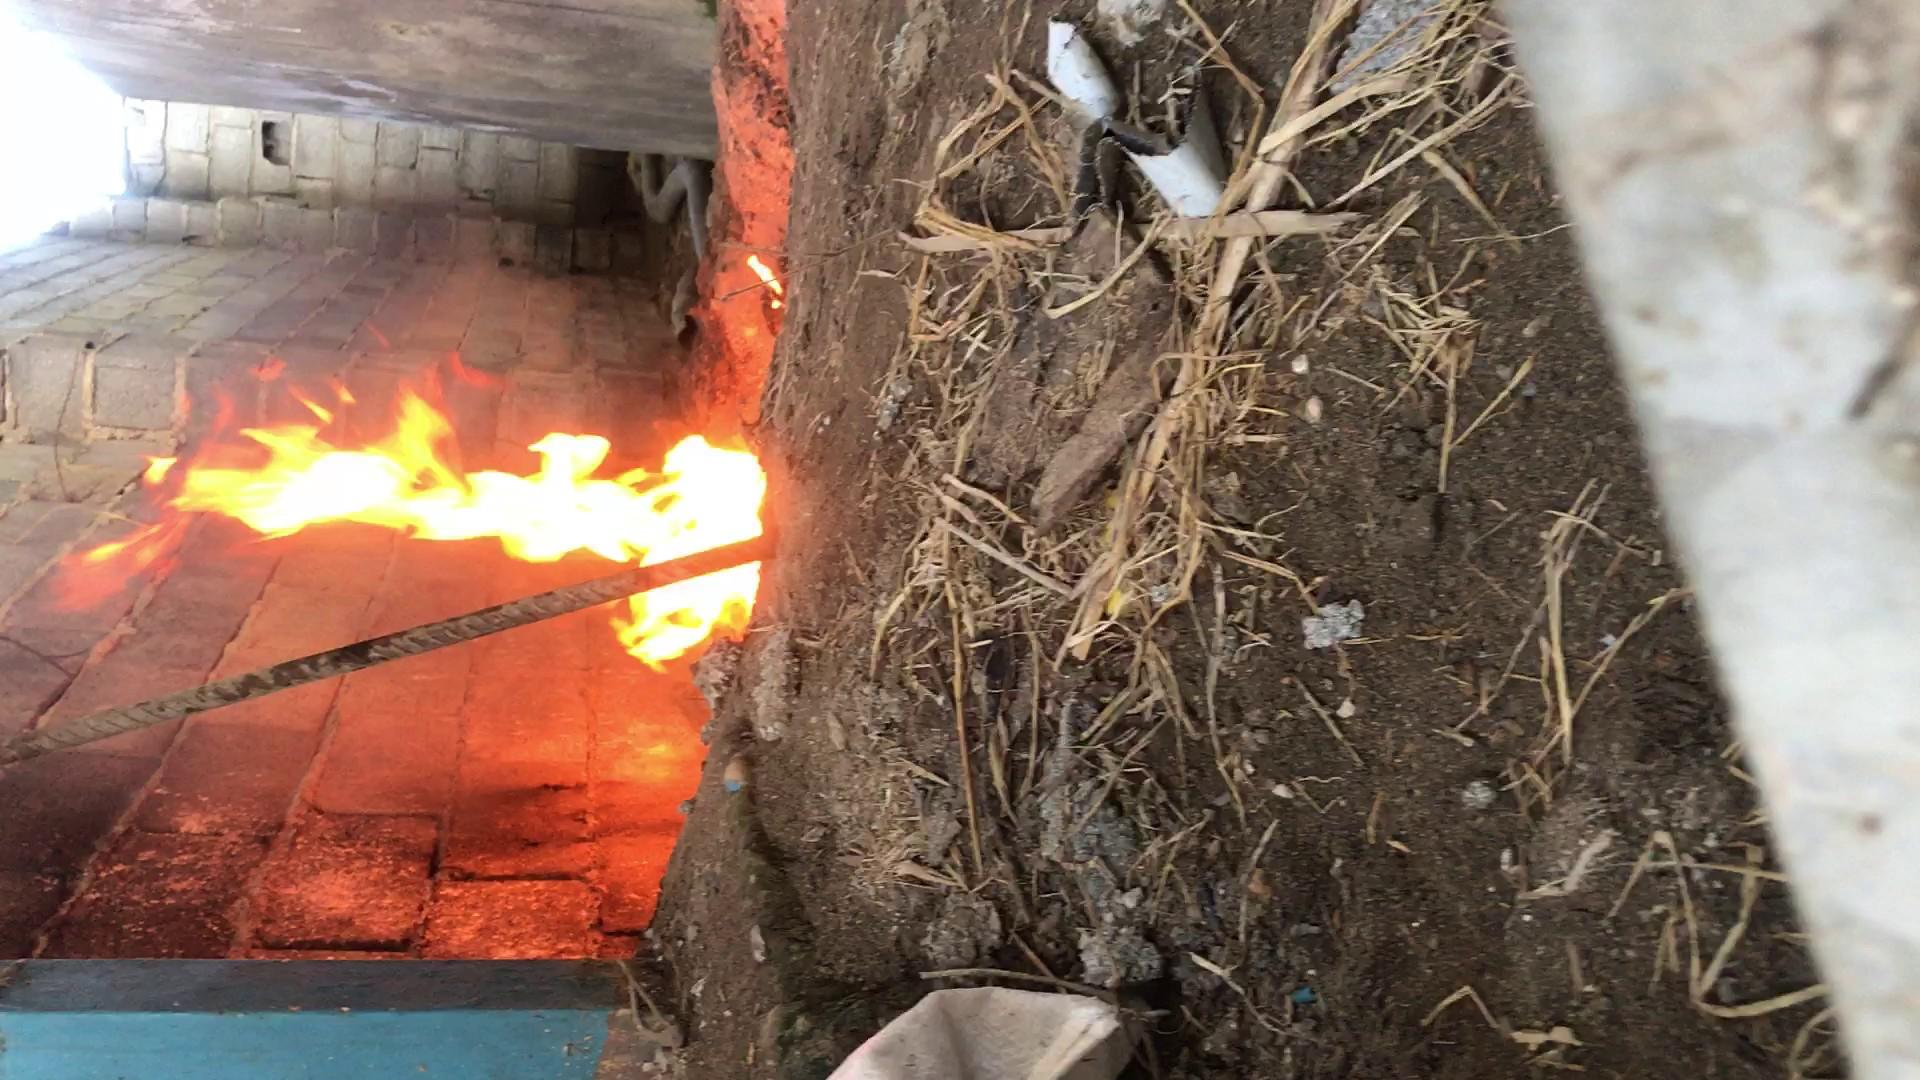fire: (794, 57, 1250, 430)
